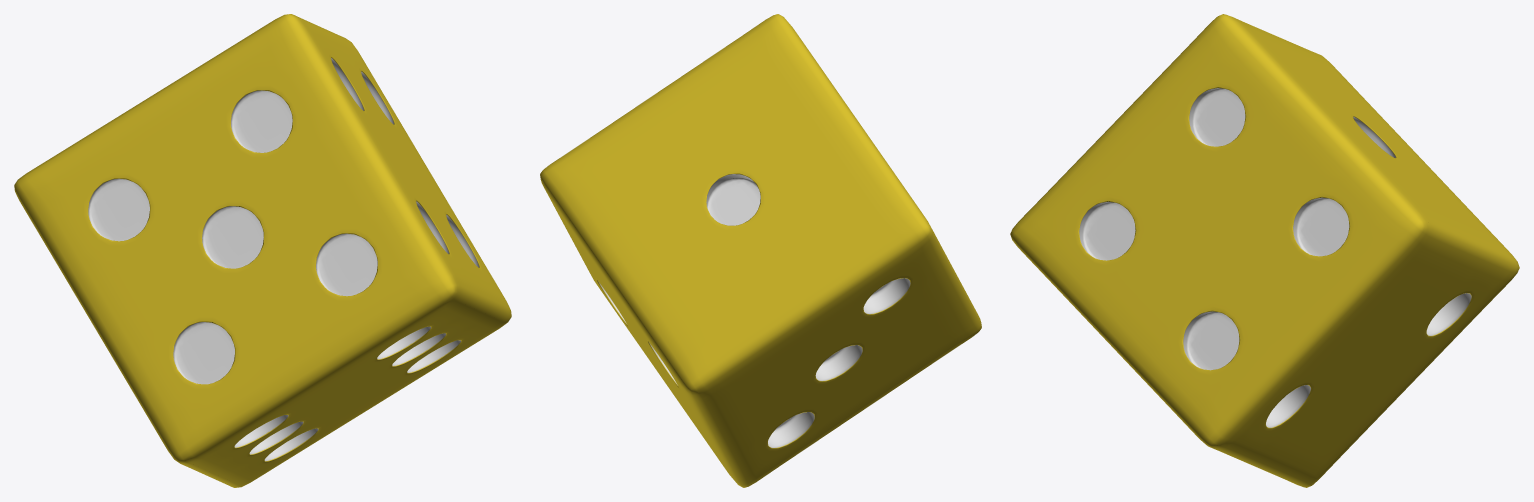
Rendered from DiceRoll5.gltf.
3 views of the same model, side by side, from view 1: azimuth 30°, elevation 25°; view 2: azimuth 150°, elevation 25°; view 3: azimuth 270°, elevation 25° (orthographic). The views are drawn at different scales.
Parts seen in each view (by area): view 1: Cube; view 2: Cube; view 3: Cube.
Boxes of the visible parts, <box> form: Cube: <box>14,14,511,487</box>; Cube: <box>540,14,981,487</box>; Cube: <box>1010,14,1519,487</box>.
Bounding box in the file's own units: 3.01 × 3.29 × 3.19.
Materials: 1 (1 with a texture image).
